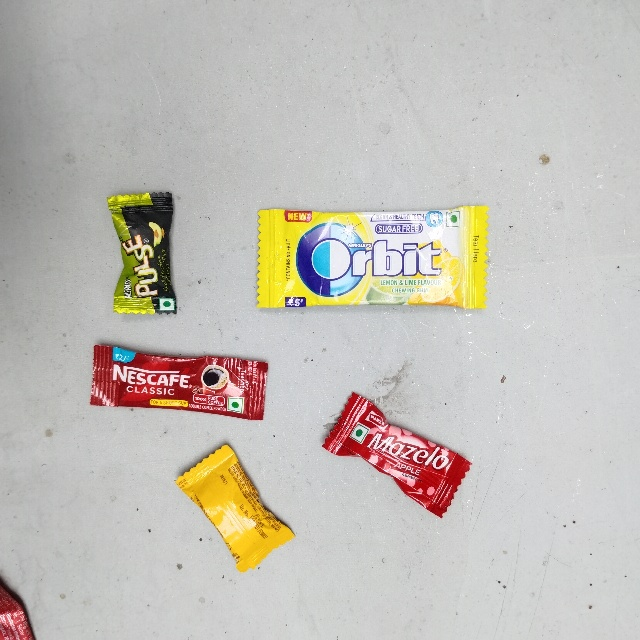Alpenlibe Creamfills: (173, 481, 245, 598)
Mazelo: (319, 445, 388, 586)
Nescafe Coffee: (88, 341, 271, 410)
Orbit: (257, 209, 488, 308)
Pulse: (107, 194, 180, 314)
